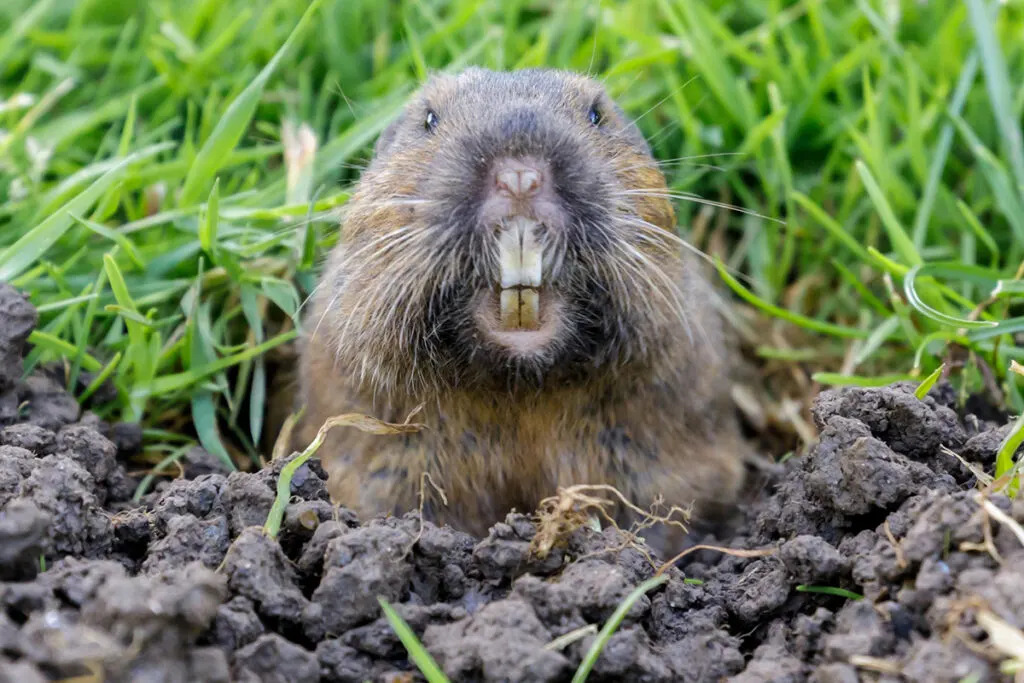gopher: (297, 69, 748, 518)
